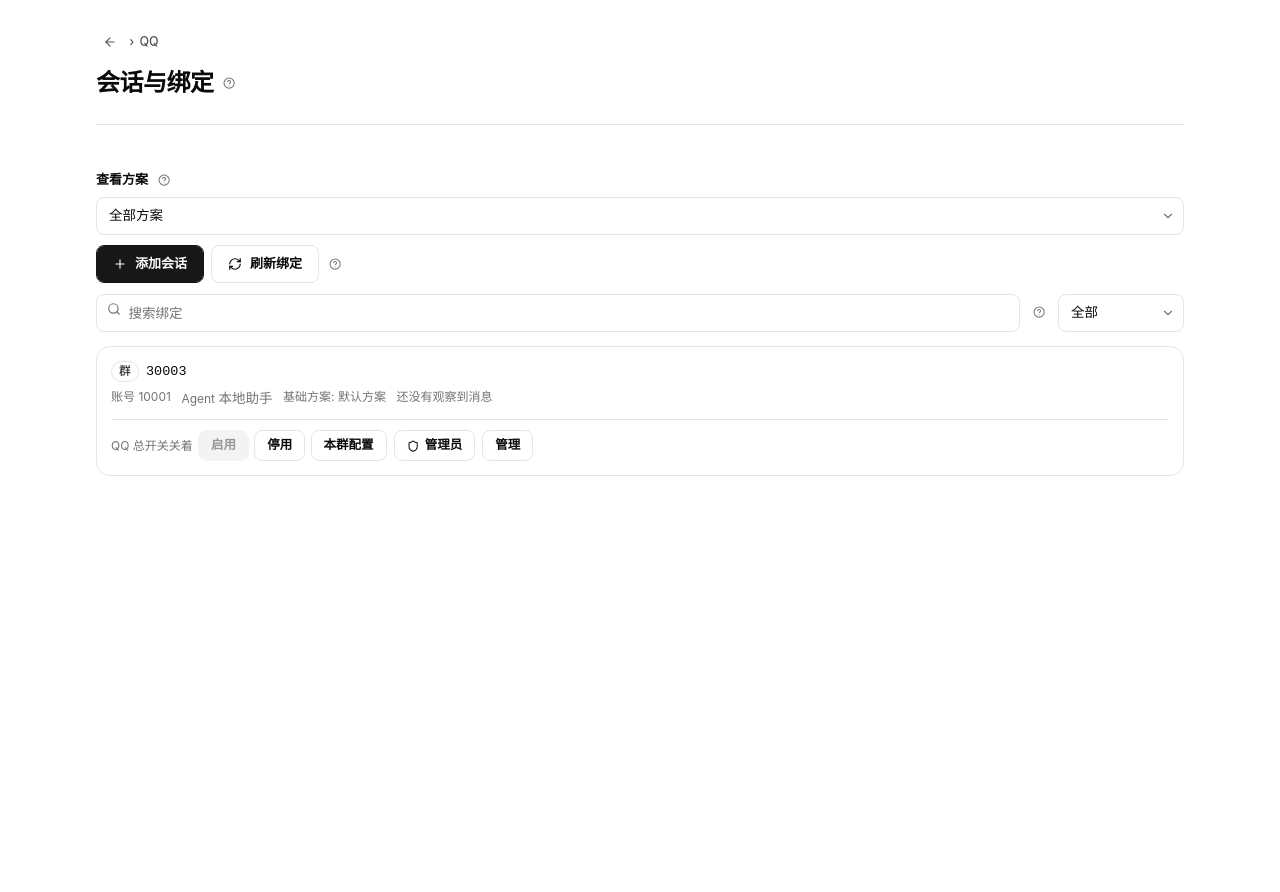
Test: QQ Admin Navigation & Integration › T3: closing drawer retains draft in store, listed in global qqDraftChanges, and restored on reopen
Click the button "管理员" at [434, 446], box [394,430,475,461]
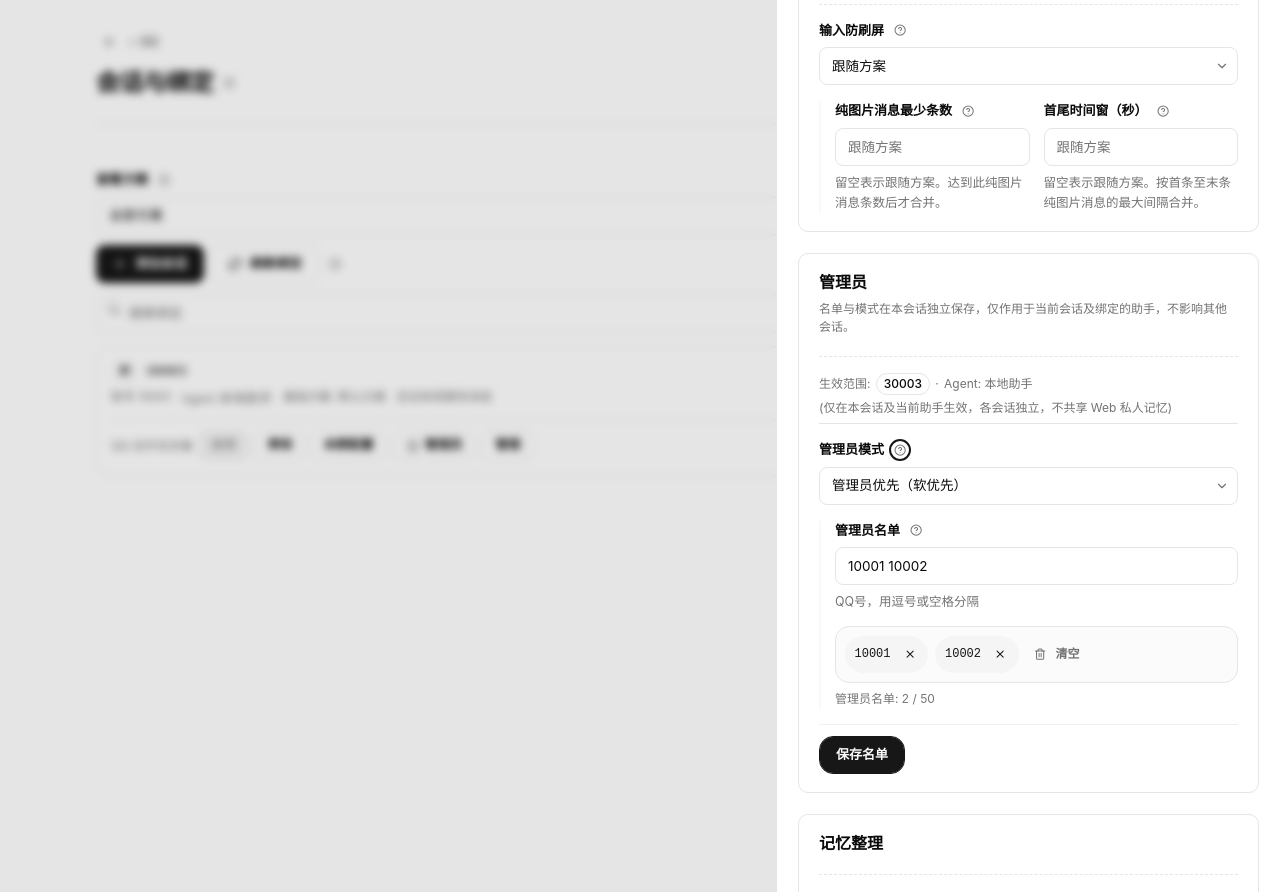
Replace the text in the field labelled "管理员名单" with "10001 10003" at [1036, 566], box [835,547,1238,585]
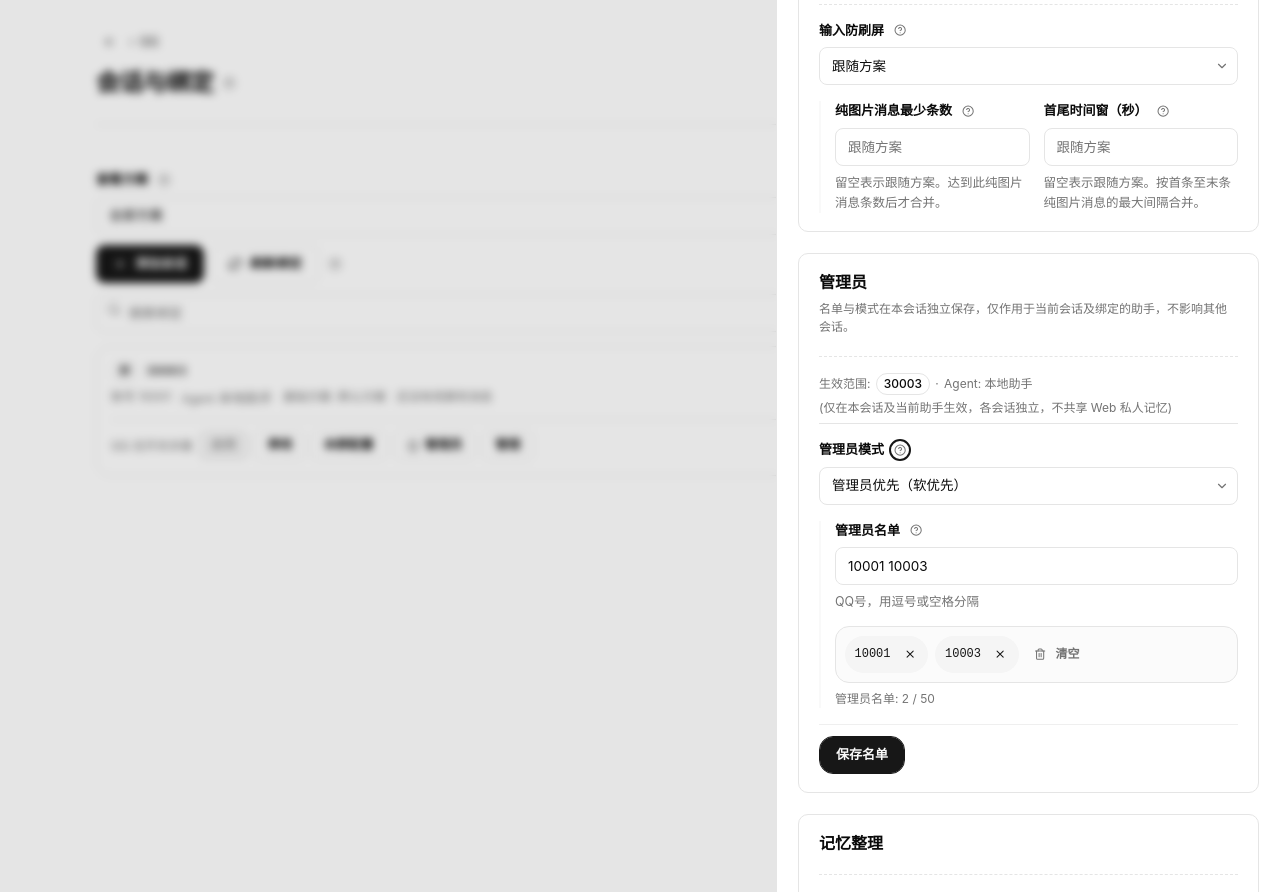
# Press Escape to close drawer
Press Escape
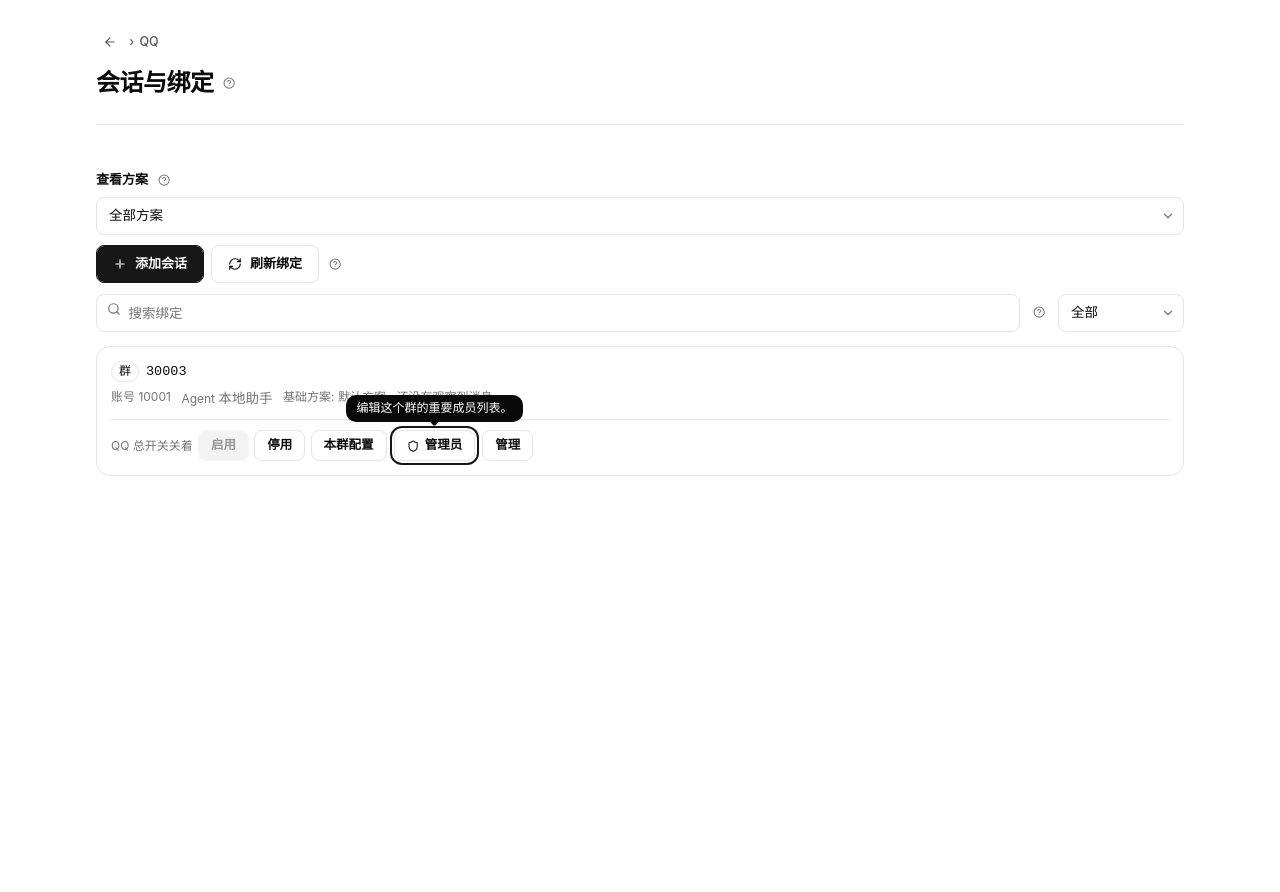
# Reopening the drawer restores the draft in the input
Click the button "管理员" at [434, 446], box [394,430,475,461]
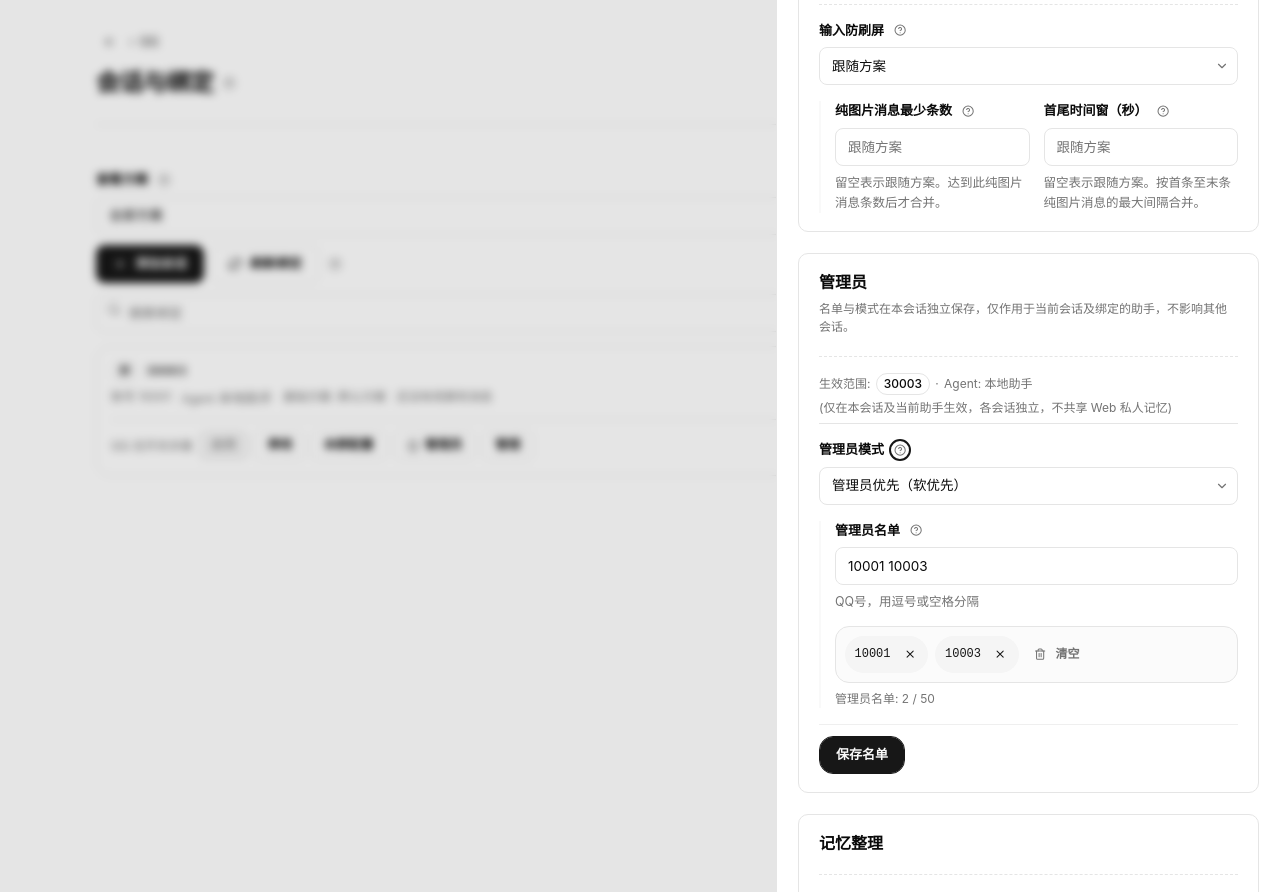
Result: the field labelled "管理员名单" holds "10001 10003" at [835,547,1238,585]
